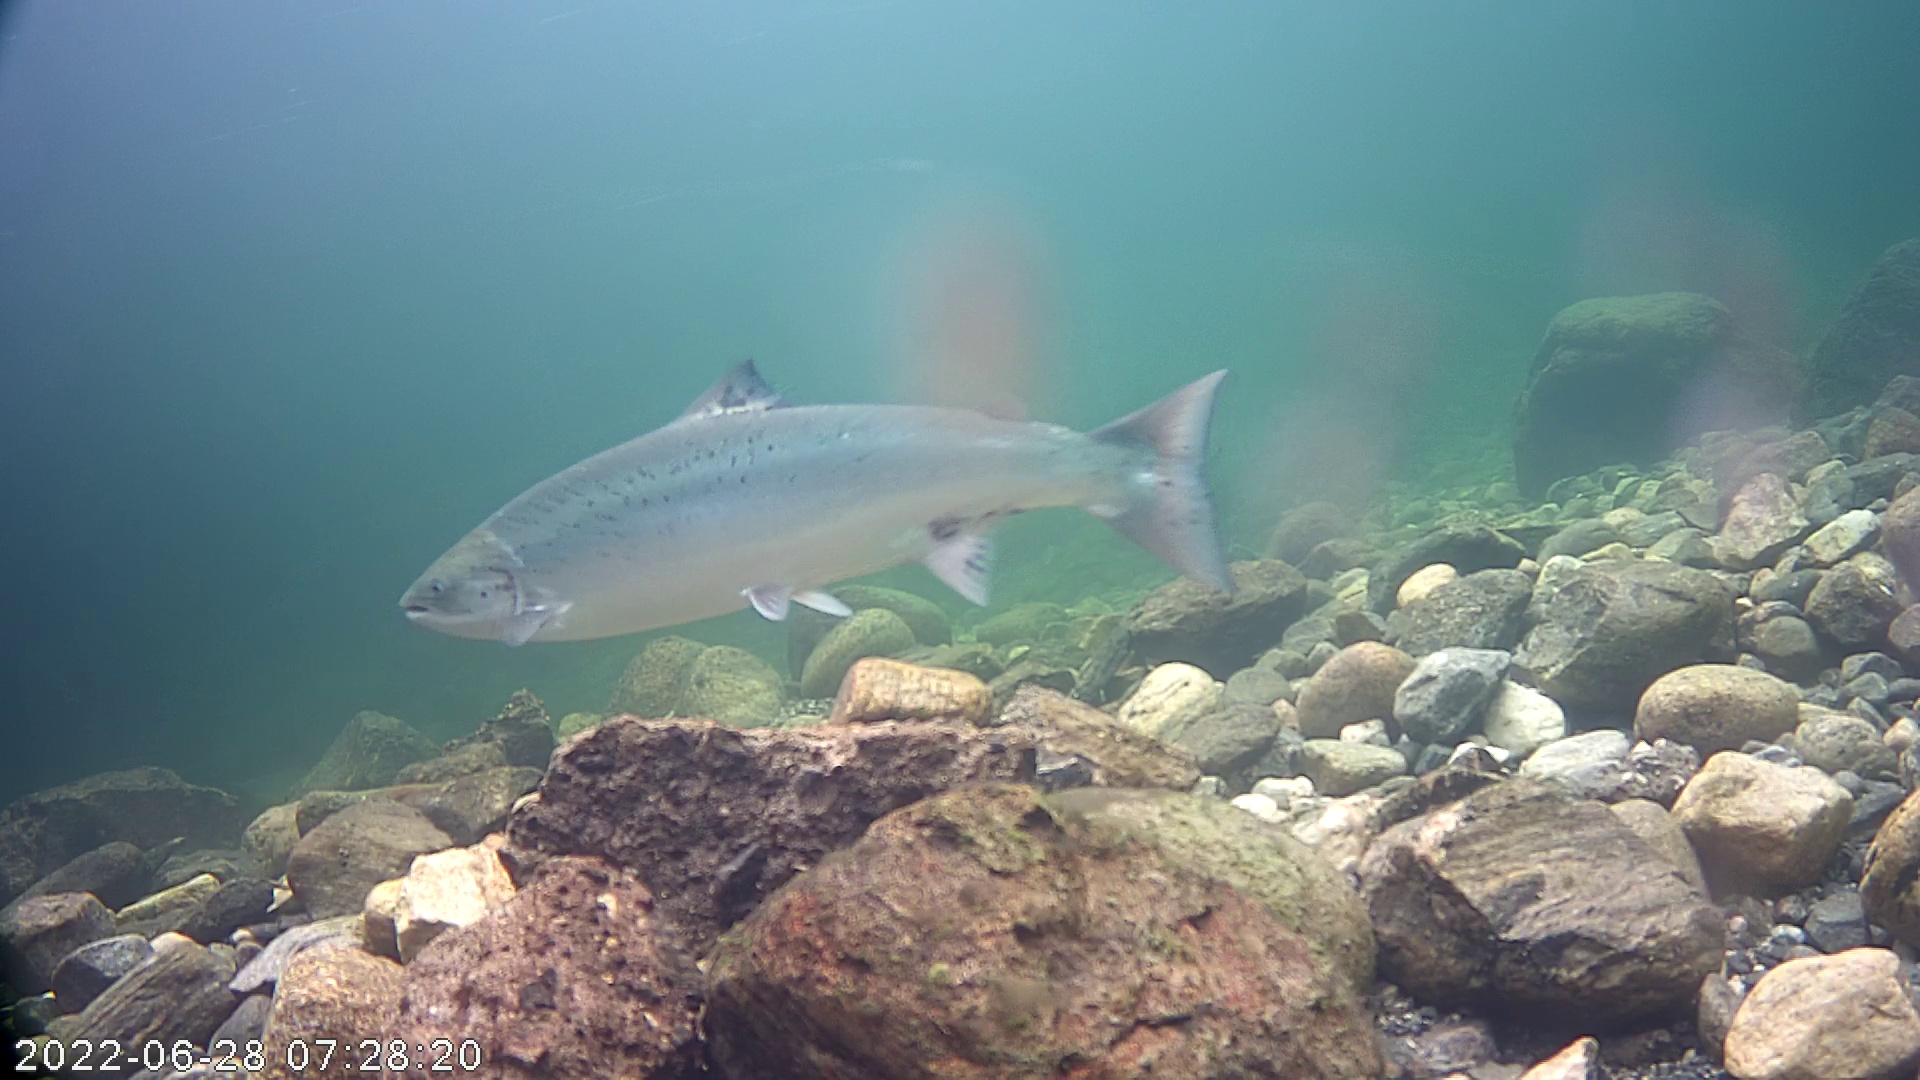salmon: (389, 276, 1274, 688)
